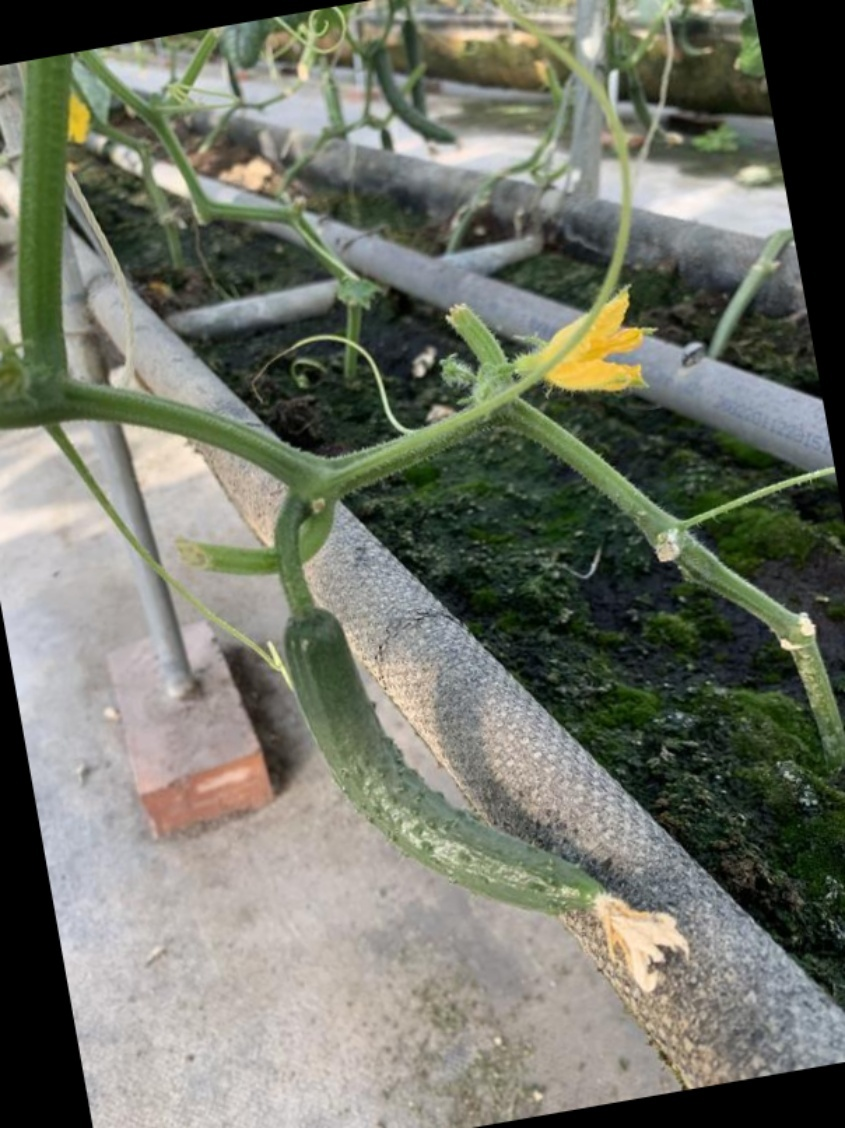growth: (274, 595, 673, 943)
